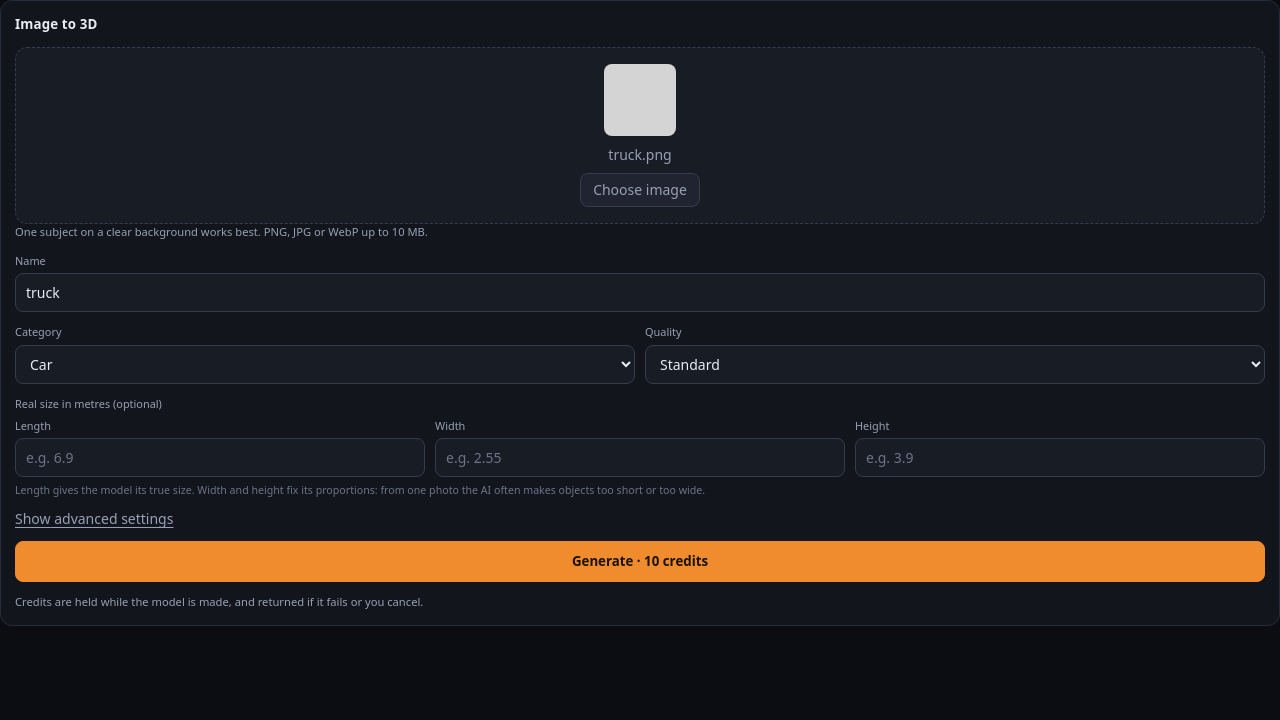
Test case: CreatePanel › blocks on too few credits, a bad size, or a full queue
Earlier steps of the test are not shown.
Later steps or results of the test are not shown.
Type "500" into the field labelled "Length" at (220, 458), box [15,438,425,477]
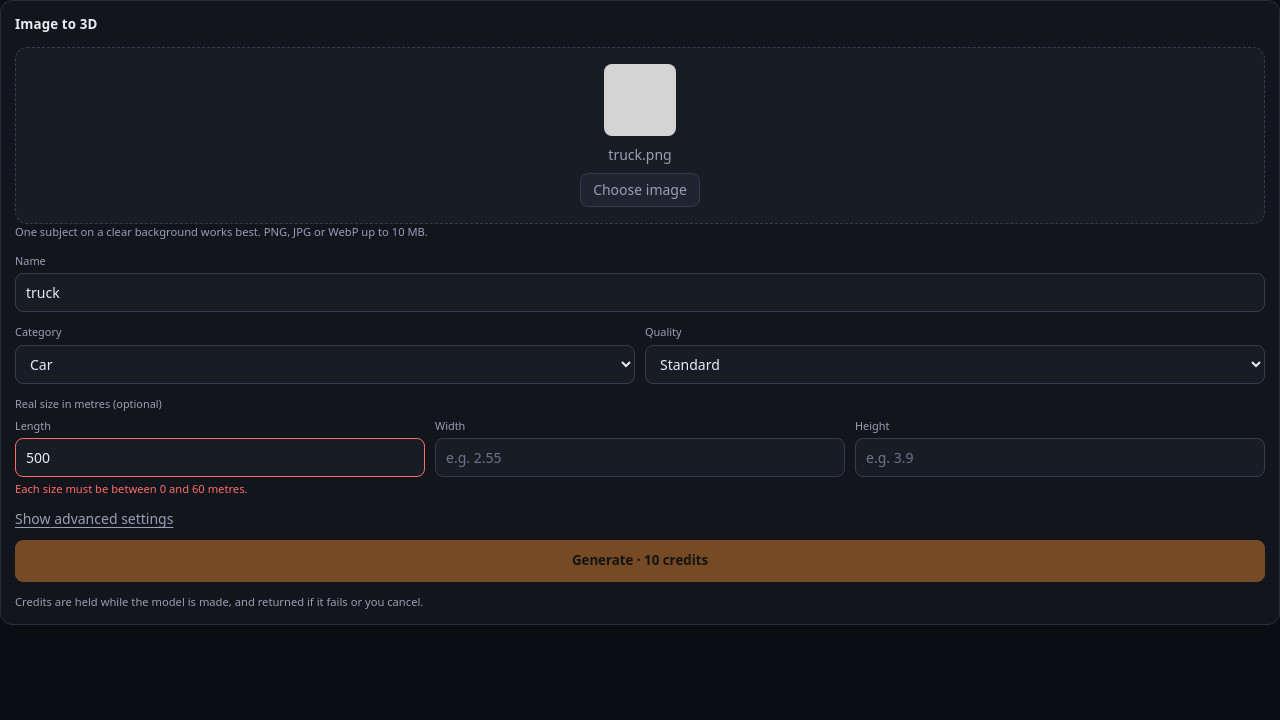
expect the text "Each size must be between 0 and 60 metres." is shown: met, box [15,481,248,496]
expect the button "Generate · 10 credits" is disabled: met, box [15,540,1265,582]
Clear the field labelled "Length" at (220, 458), box [15,438,425,477]
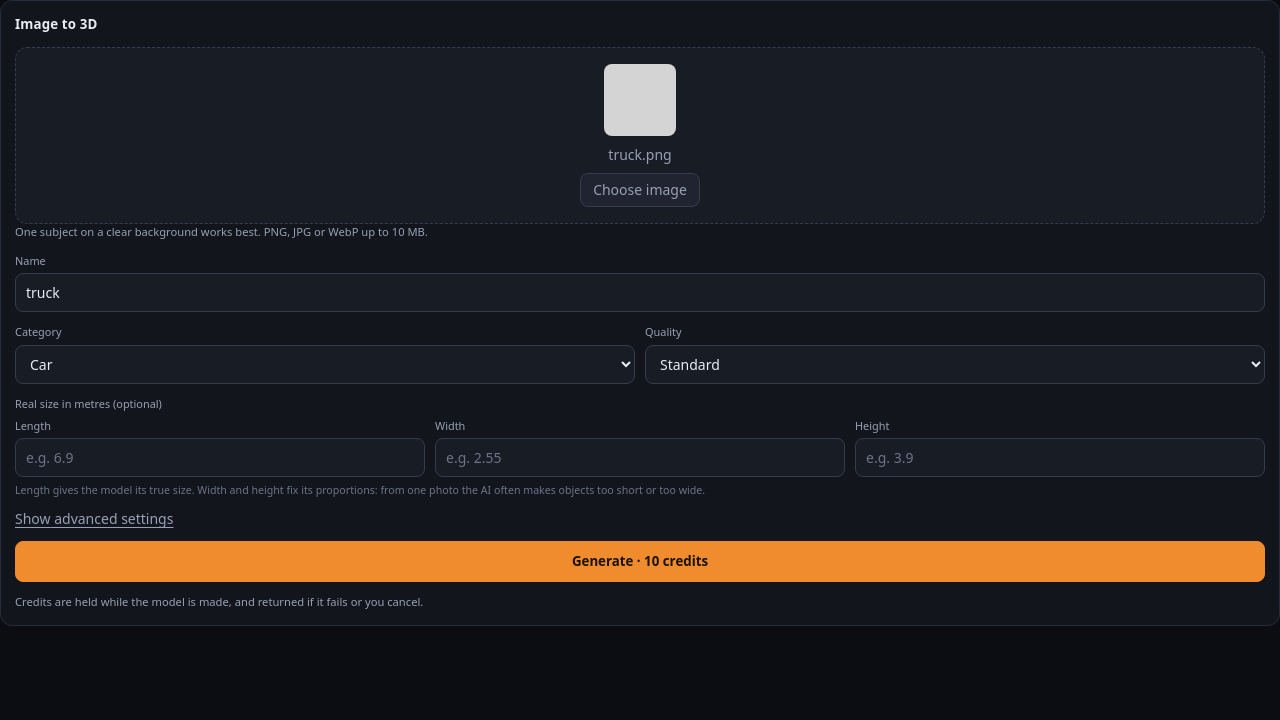
Type "-1" into the field labelled "Height" at (1060, 458), box [855,438,1265,477]
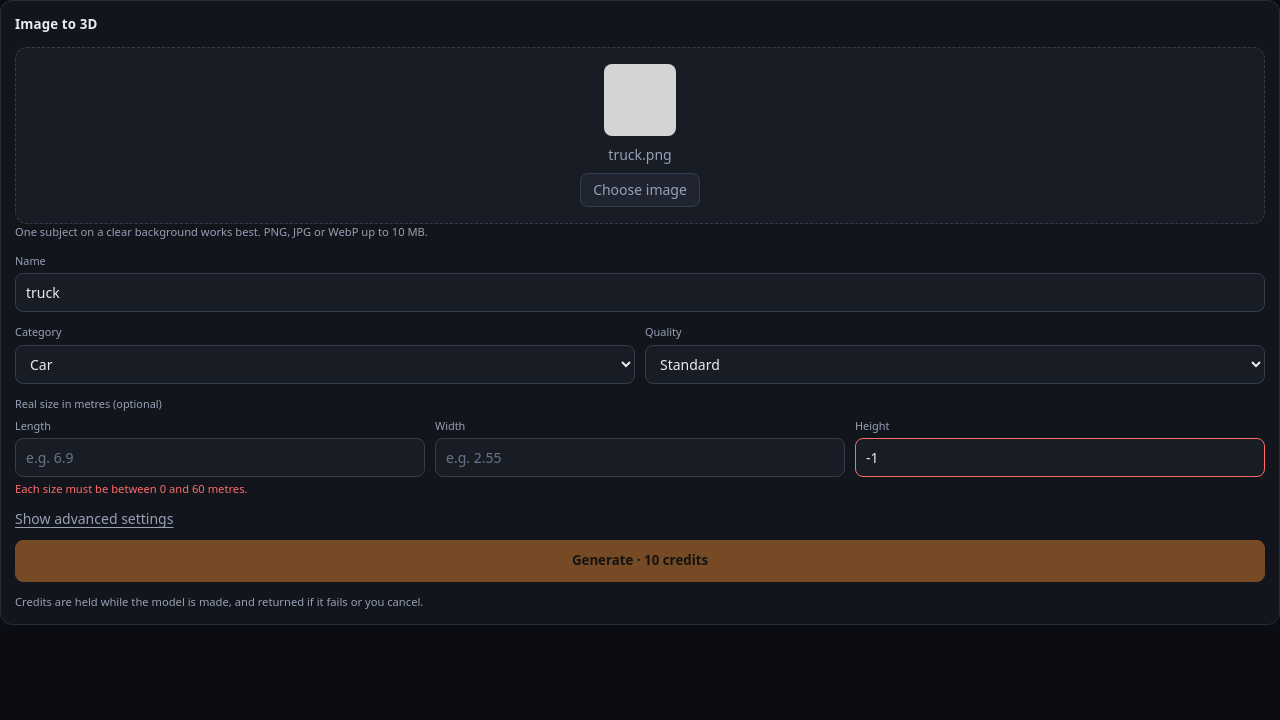
expect the button "Generate · 10 credits" is disabled: met, box [15,540,1265,582]
